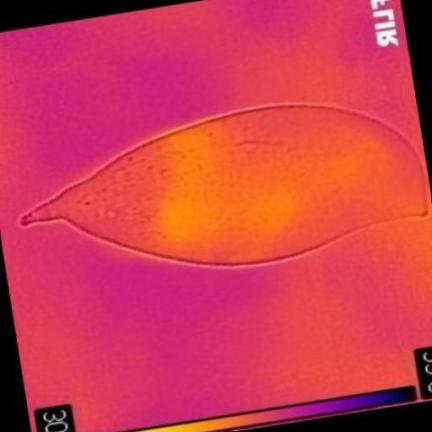mango: (21, 102, 427, 266)
